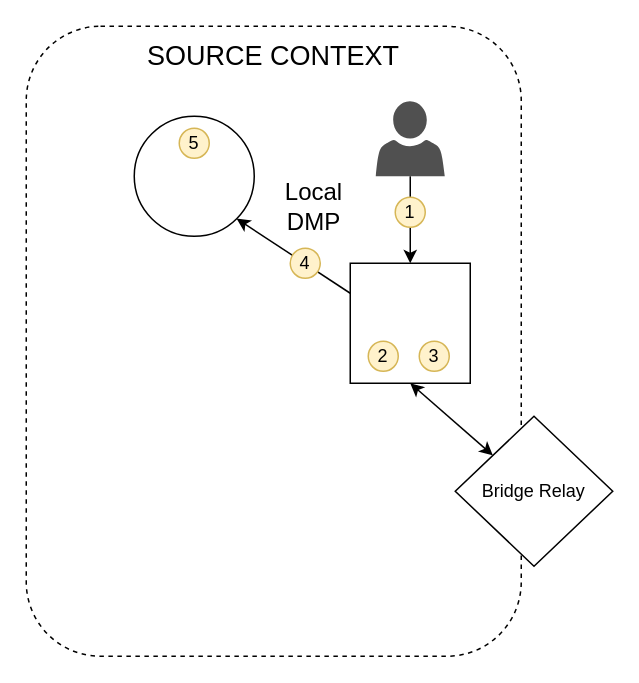
Image size: 639x683. Some labels were removed from this diagram. The shapes that lost their labels are listed below. From the top down, each one's box as (x1, y1, x2, y2) in pixels, then its label:
(133, 115, 254, 236): Parachain
(349, 262, 470, 383): Relay Chain
